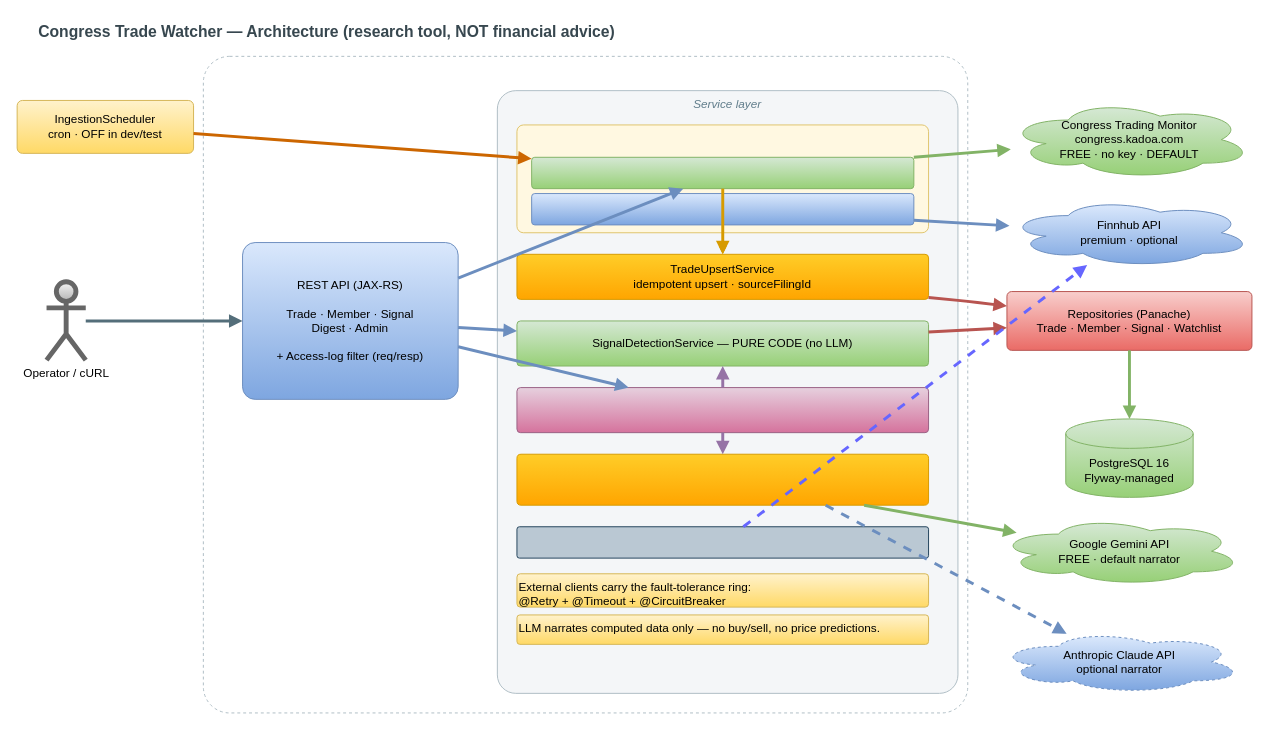
This 1269x730 diagram has some shape labels left out. Here are the shapes that lost their labels. From the top down, the box of each, then its label:
(531, 156, 914, 189): CongressDataIngestionService (default)
(516, 124, 929, 233): Ingestion sources (ingestion.source)
(531, 193, 914, 225): TradeIngestionService (Finnhub)
(202, 55, 968, 713): congress-trade-watcher (Quarkus)
(516, 387, 929, 433): DigestService — @CacheResult (per day)
(516, 453, 929, 505): LlmInsightService + LlmProvider (Gemini default / Anthropic) — narration only
(516, 526, 929, 558): PerformanceTrackingService
